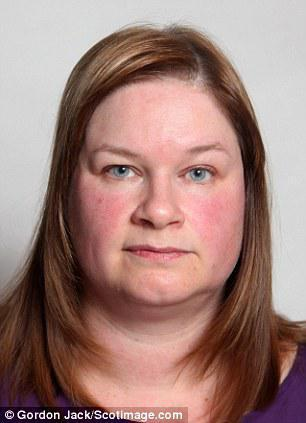Drunk: (87, 77, 242, 299)
